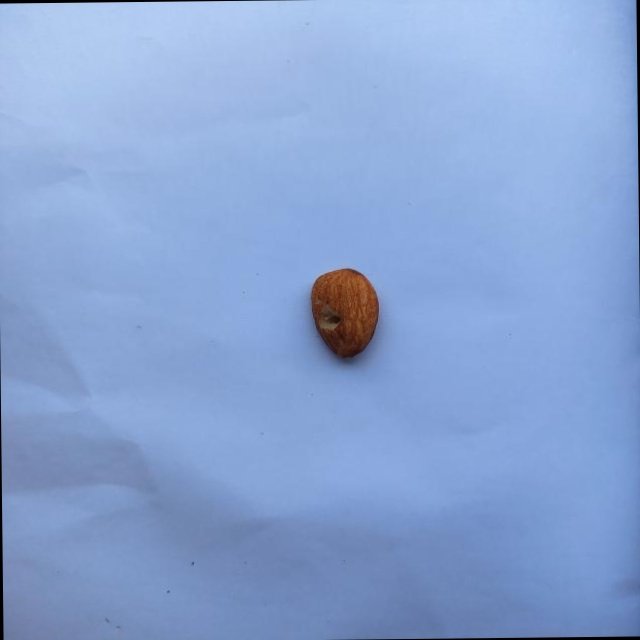grade3: (305, 264, 381, 363)
